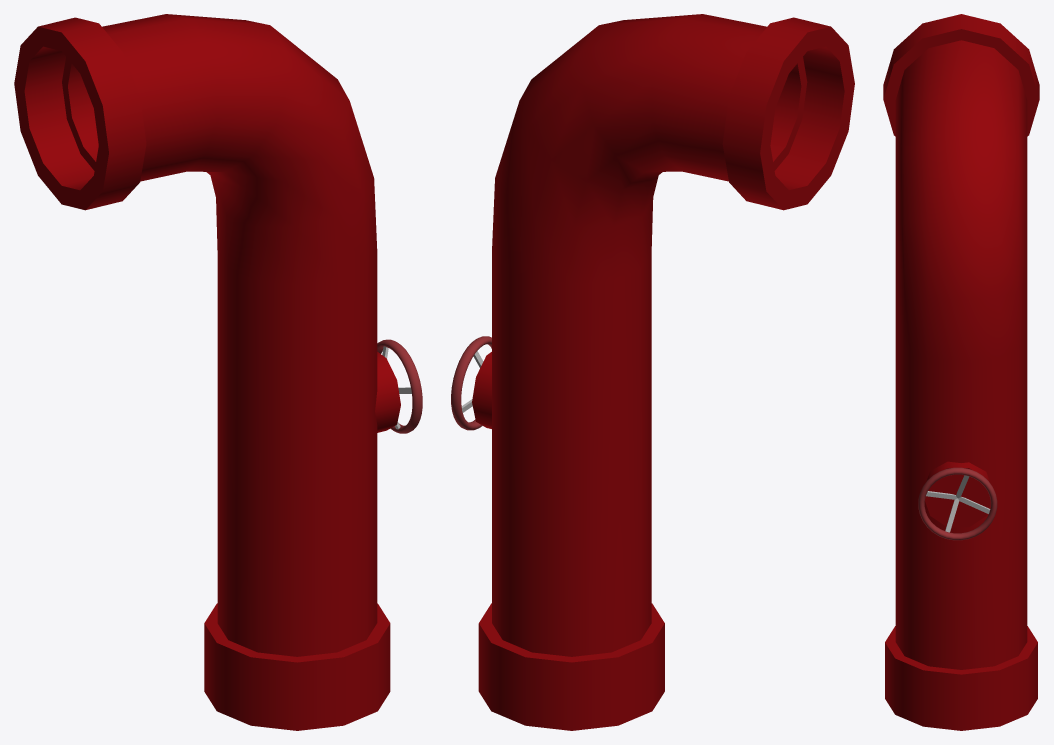
File: pipe.fbx
3 views of the same model, side by side, from view 1: azimuth 30°, elevation 25°; view 2: azimuth 150°, elevation 25°; view 3: azimuth 270°, elevation 25° (orthographic). The views are drawn at different scales.
Visible parts, largest first — view 1: pipe1, handle; view 2: pipe1, handle; view 3: pipe1, handle, handle_2.
Boxes of the visible parts, x1,y1,x2,y2 form: pipe1: (14,14,400,730); handle: (377,339,422,433); pipe1: (472,14,854,730); handle: (451,336,491,430); pipe1: (883,14,1039,730); handle: (918,467,997,540); handle_2: (926,475,990,532).
Bounding box in the file's own units: 64.37 × 132 × 268.
